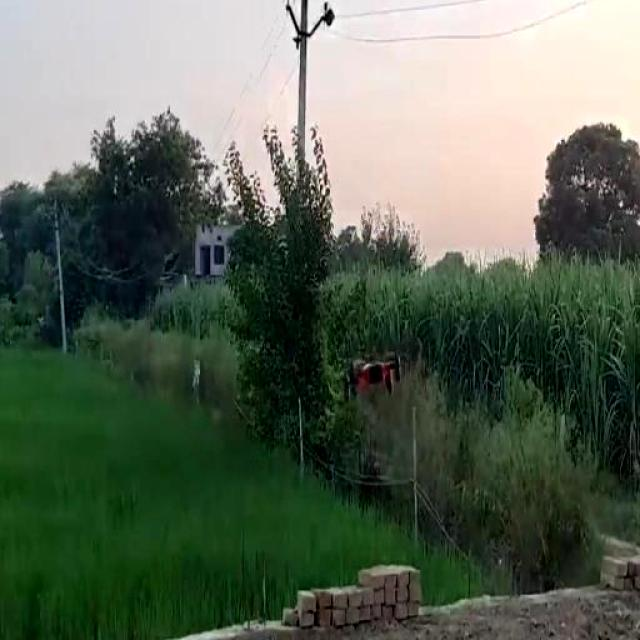bird: (338, 335, 402, 405)
